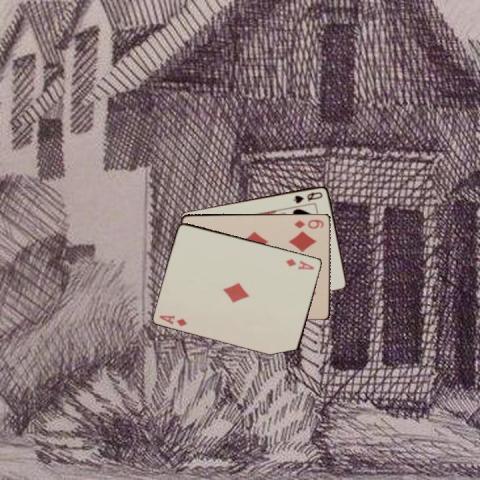6d: (291, 217, 325, 229)
Ad: (283, 255, 316, 271), (156, 312, 188, 327)
Qs: (291, 188, 324, 204)
